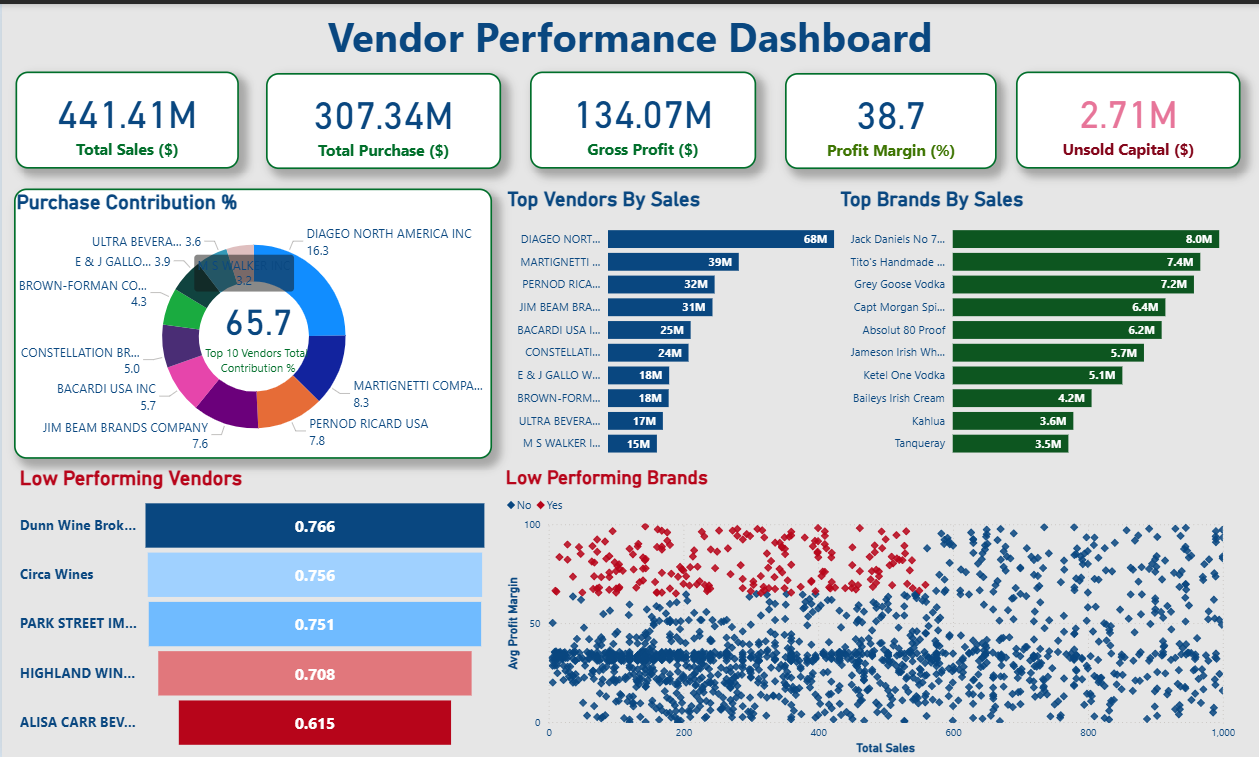

The dashboard page shown, as its layout file describes it:
{"tool":"powerbi","page":{"name":"Page 1","canvas":[1500,900],"ordinal":0},"visuals":[{"type":"card","fields":{"Values":["Sum(vendor_sales_summary.TotalPurchaseDollars)"]},"box":[315.8,82.4,280.9,114.6],"z":0},{"type":"card","fields":{"Values":["Sum(vendor_sales_summary.TotalSalesDollars)"]},"box":[16.8,81,266.9,116],"z":1000},{"type":"card","fields":{"Values":["Sum(vendor_sales_summary.GrossProfit)"]},"box":[630.2,81,269.7,116],"z":2000},{"type":"card","fields":{"Values":["Avg(vendor_sales_summary.ProfitMargin)"]},"box":[934.8,82.4,252.9,114.6],"z":3000},{"type":"card","fields":{"Values":["Sum(vendor_sales_summary.UnsoldCapital)"]},"box":[1210.1,81,268.3,116],"z":4000},{"type":"textbox","box":[0,0,1500,83],"z":5000},{"type":"donutChart","title":"Purchase Contribution % ","fields":{"Category":["PurchaseContribution.VendorName"],"Y":["Sum(PurchaseContribution.PurchaseContribution%)"]},"box":[14.5,219.4,571,322.6],"z":6000},{"type":"card","fields":{"Values":["Sum(PurchaseContribution.PurchaseContribution%)"]},"box":[211.8,266.7,188.2,233.3],"z":7000},{"type":"barChart","title":"Top Vendors By Sales","fields":{"Category":["vendor_sales_summary.VendorName"],"Y":["Sum(vendor_sales_summary.TotalSalesDollars)"]},"box":[597.3,219.2,447.9,332.9],"z":8000},{"type":"barChart","title":"Top Brands By Sales","fields":{"Category":["vendor_sales_summary.Description"],"Y":["Sum(vendor_sales_summary.TotalSalesDollars)"]},"box":[995.9,219.2,504.1,332.9],"z":9000},{"type":"funnel","title":"Low Performing Vendors","fields":{"Category":["LowTurnoverVendor.VendorName"],"Y":["Avg(LowTurnoverVendor.AvgStockTurnOver)"]},"box":[16.1,551.6,569.4,348.4],"z":10000},{"type":"scatterChart","title":"Low Performing Brands","fields":{"X":["Sum(BrandPerformance.TotalSales)"],"Y":["Sum(BrandPerformance.AvgProfitMargin)"],"Series":["BrandPerformance.TargetBrand"],"Category":["BrandPerformance.Description"]},"box":[596.8,551.6,880.6,348.4],"z":11000}]}

Visuals, with their boxes in screenshot pixels (x1, y1, x2, y2), scaled from the page's 1500x900 canvas onto the 1259x757 screenshot:
card - Sum(vendor_sales_summary.TotalPurchaseDollars): bbox(265, 69, 501, 166)
card - Sum(vendor_sales_summary.TotalSalesDollars): bbox(14, 68, 238, 166)
card - Sum(vendor_sales_summary.GrossProfit): bbox(529, 68, 755, 166)
card - Avg(vendor_sales_summary.ProfitMargin): bbox(785, 69, 997, 166)
card - Sum(vendor_sales_summary.UnsoldCapital): bbox(1016, 68, 1241, 166)
textbox: bbox(0, 0, 1258, 70)
"Purchase Contribution % " donutChart: bbox(12, 185, 491, 456)
card - Sum(PurchaseContribution.PurchaseContribution%): bbox(178, 224, 336, 421)
"Top Vendors By Sales" barChart: bbox(501, 184, 877, 464)
"Top Brands By Sales" barChart: bbox(836, 184, 1258, 464)
"Low Performing Vendors" funnel: bbox(14, 464, 491, 756)
"Low Performing Brands" scatterChart: bbox(501, 464, 1240, 756)
